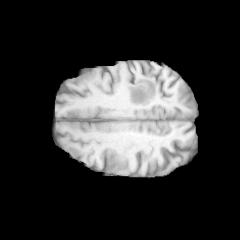glioma: (127, 78, 156, 106)
